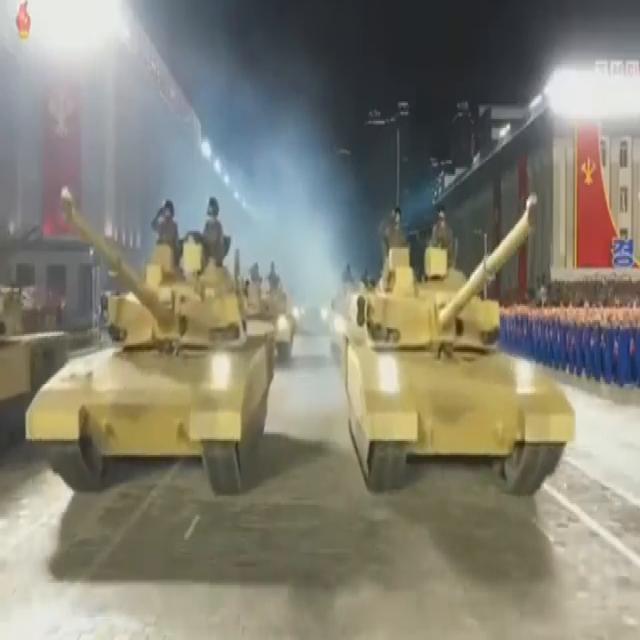north tank: (331, 170, 601, 520), (17, 176, 282, 518)
